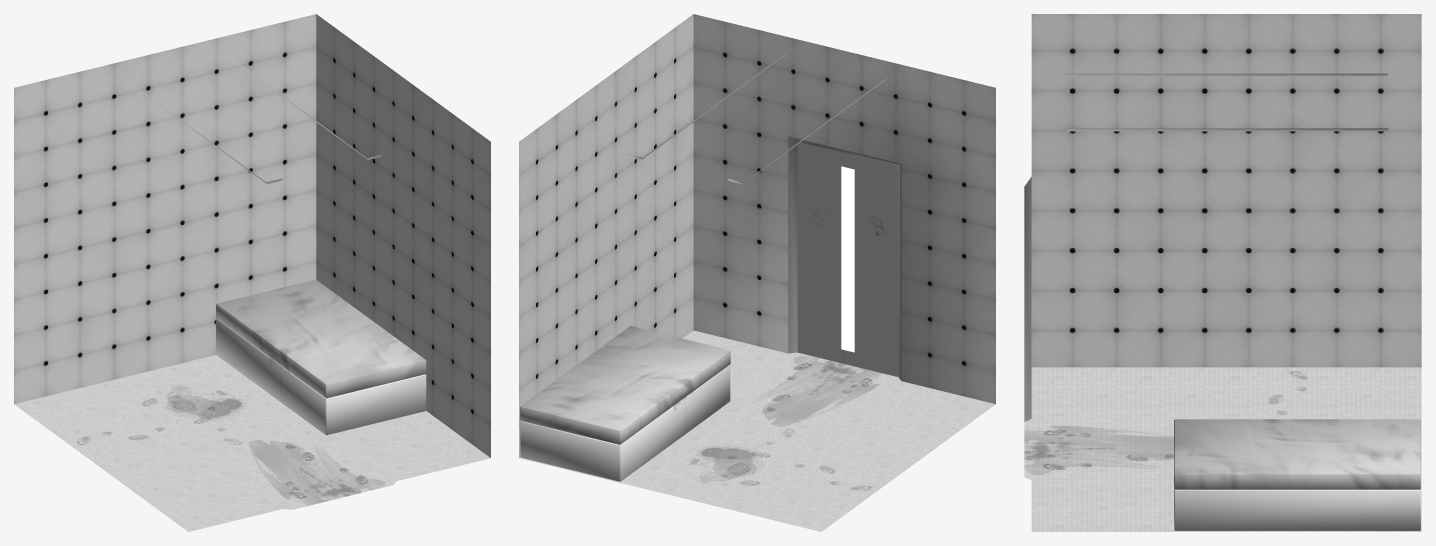
The model's file is 18_misfit_room_-_inktober2019.glb.
3 views of the same model, side by side, from view 1: azimuth 30°, elevation 25°; view 2: azimuth 150°, elevation 25°; view 3: azimuth 270°, elevation 25° (orthographic). The views are drawn at different scales.
Parts seen in each view (by area): view 1: Object_4, Object_3; view 2: Object_4, Object_2; view 3: Object_4.
Boxes of the visible parts, x1=… form: Object_4: x1=14, y1=14, x2=490, y2=531; Object_3: x1=14, y1=14, x2=316, y2=403; Object_4: x1=519, y1=14, x2=995, y2=531; Object_2: x1=841, y1=166, x2=854, y2=352; Object_4: x1=1024, y1=14, x2=1421, y2=531.
Bounding box in the file's own units: 3 × 3 × 3.06.
Materials: 3 (3 with a texture image).
